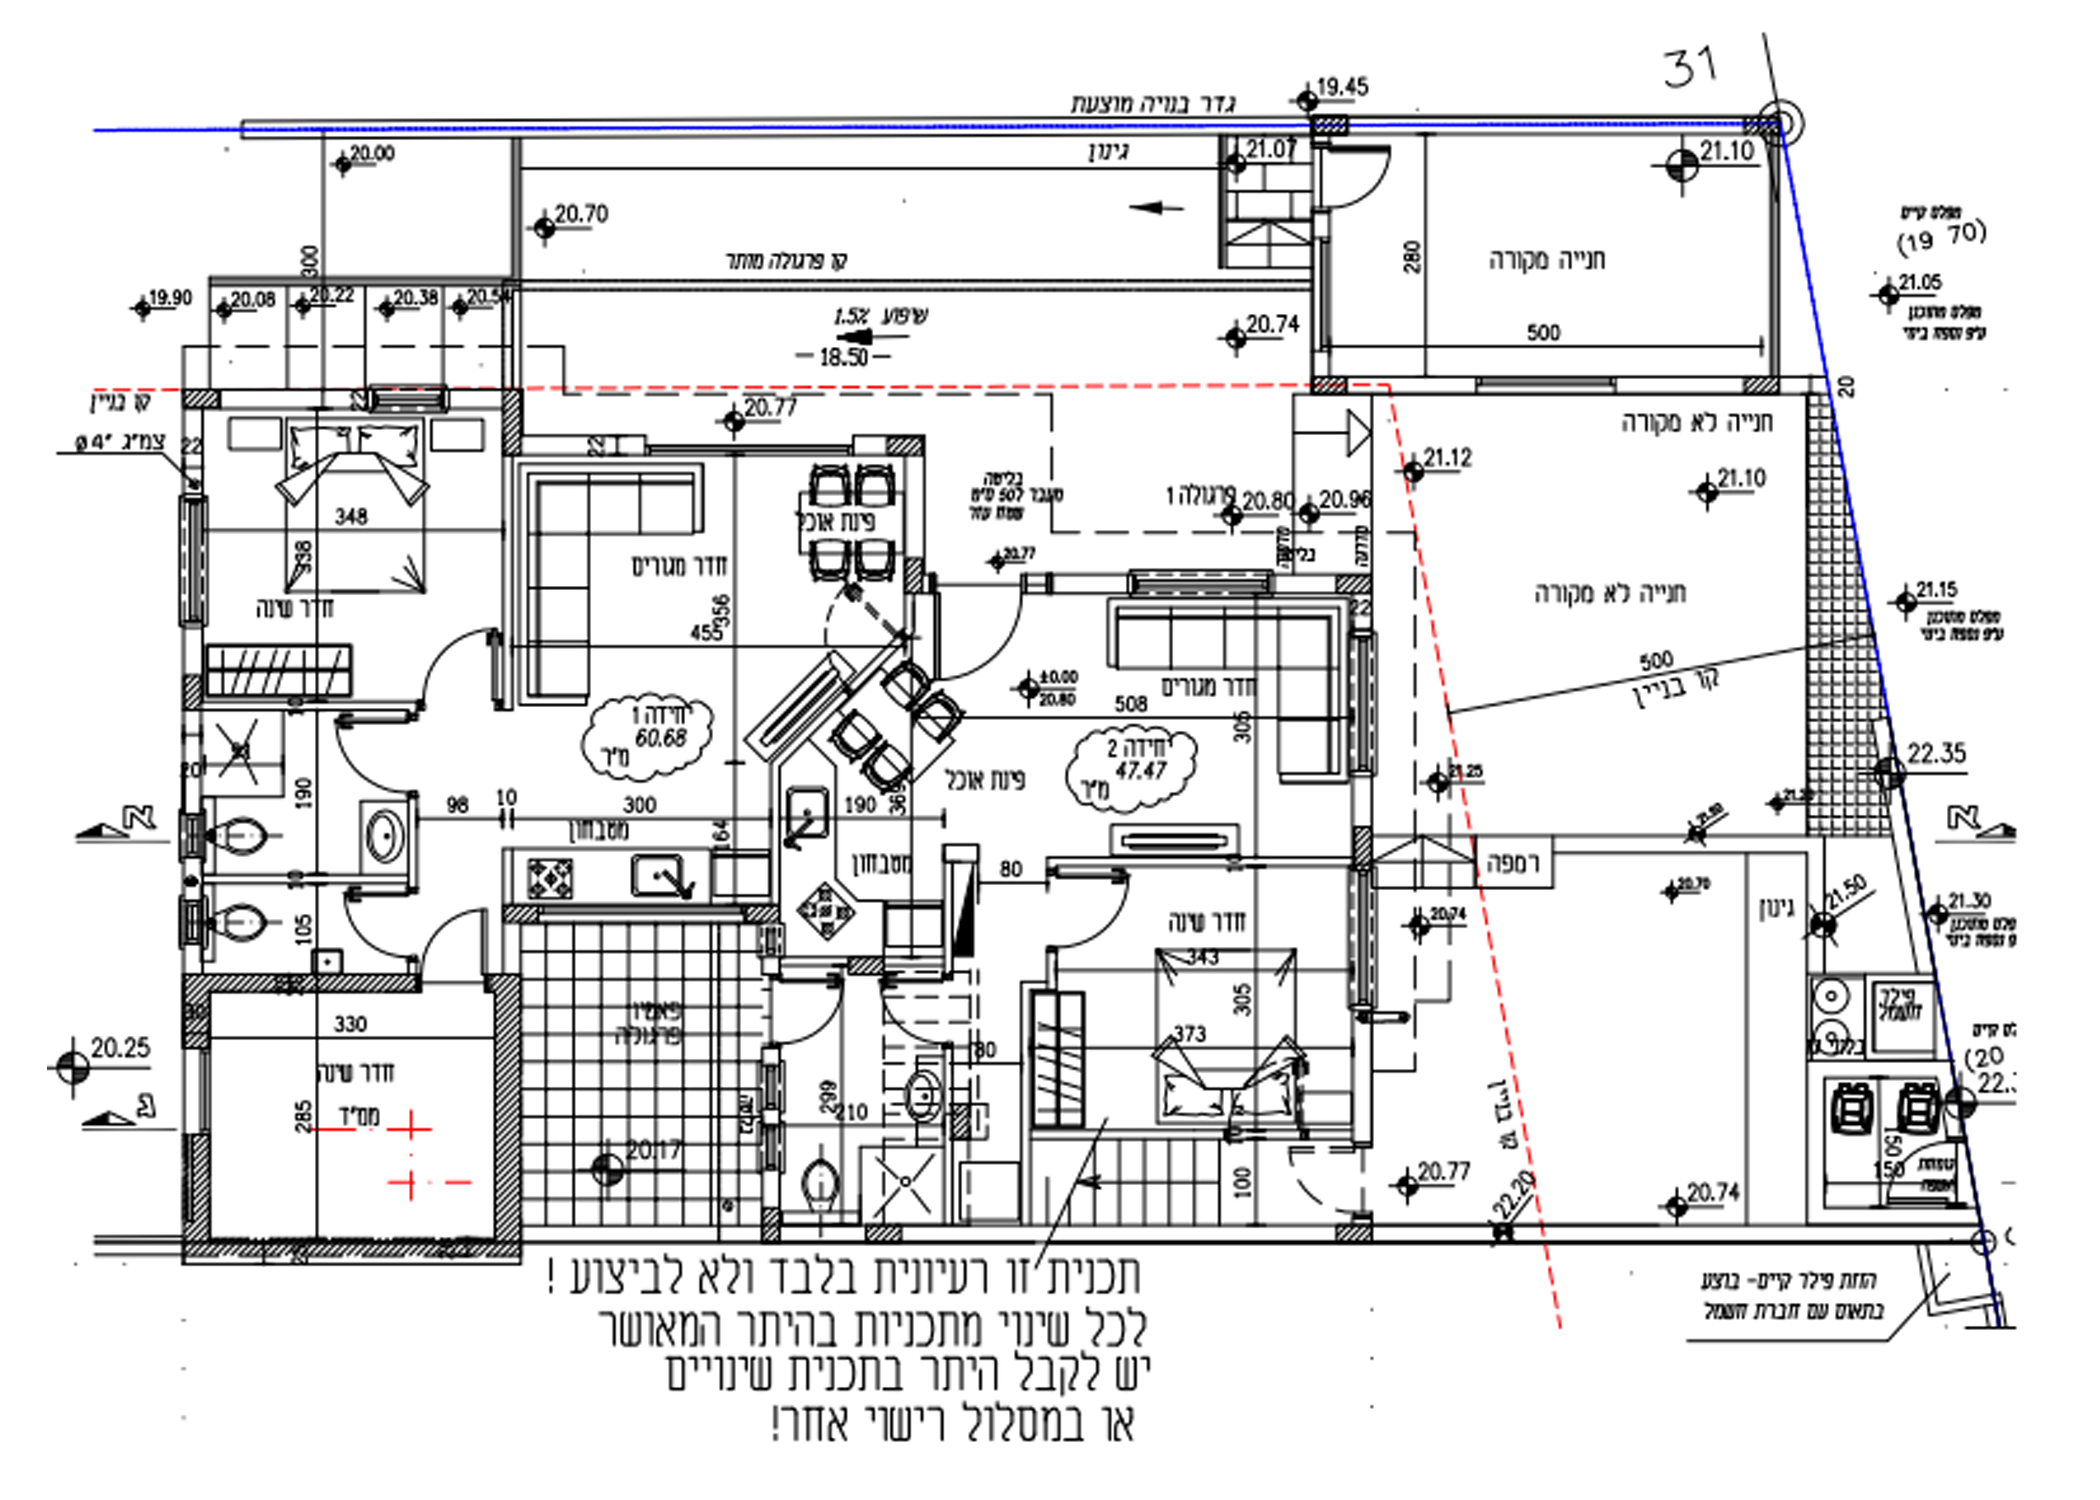door: (928, 596, 1022, 682), (1052, 880, 1143, 956), (419, 614, 495, 693), (323, 721, 399, 799), (419, 907, 488, 972), (339, 890, 404, 958)
